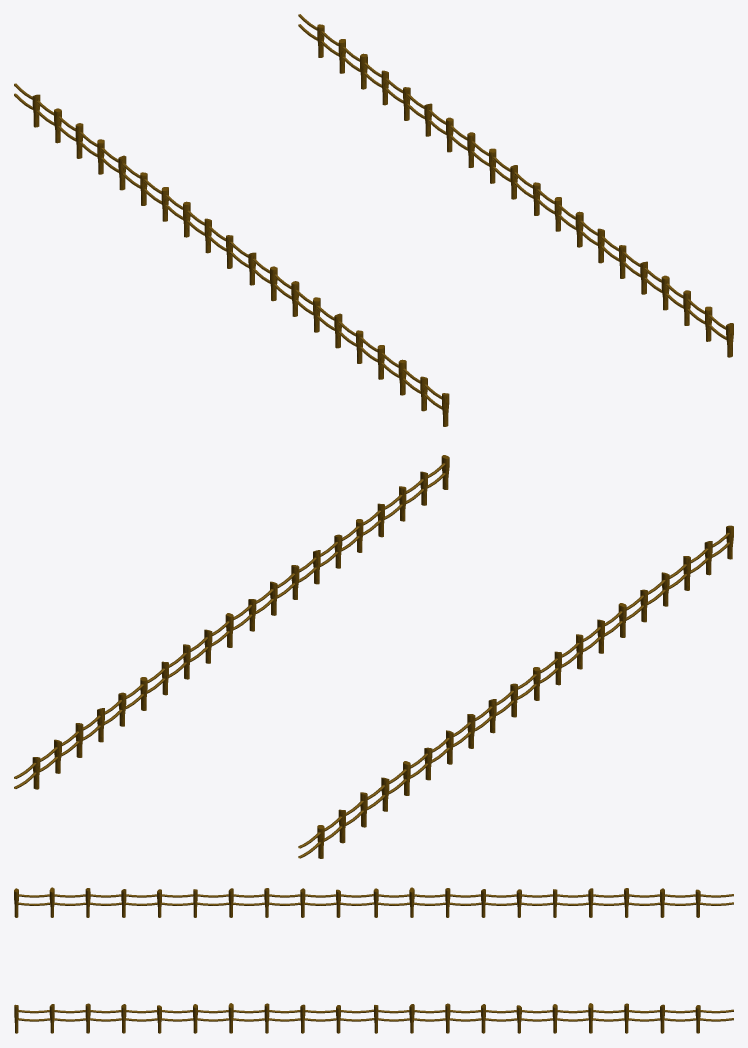
File: Fence.fbx
3 renders of one model, top to bottom at view 1: azimuth 30°, elevation 25°; view 2: azimuth 150°, elevation 25°; view 3: azimuth 270°, elevation 25°, orthographic. The views are drawn at different scales.
Size of the model in its own units: 1180 by 130 by 3026.
Materials: 2 (2 with a texture image).
